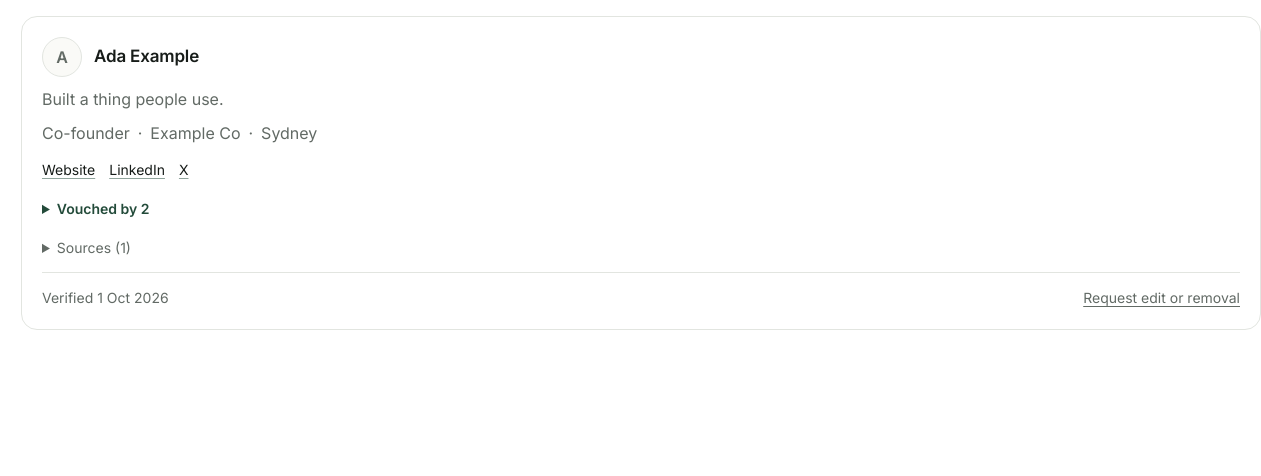
PersonCard › shows "Vouched by N" only where there are vouches, and each as a quotation with who said it
The width and height of the screenshot is (1261, 476).
Click the heading "Vouched by 2": click(103, 208) [57,200,150,217]
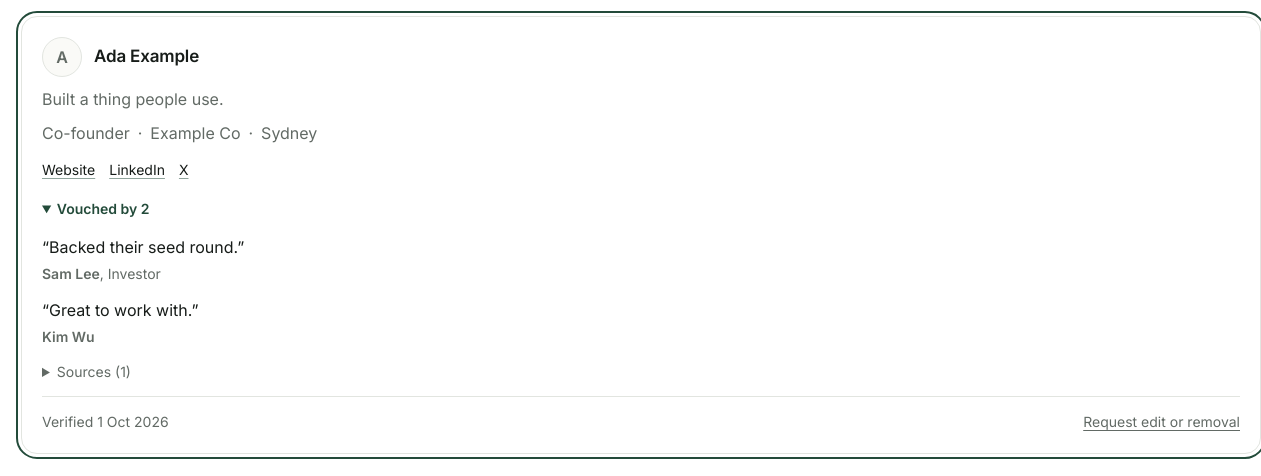
Expected: the text "Sam Lee" reads "Sam Lee, Investor", [42,265,161,282]
